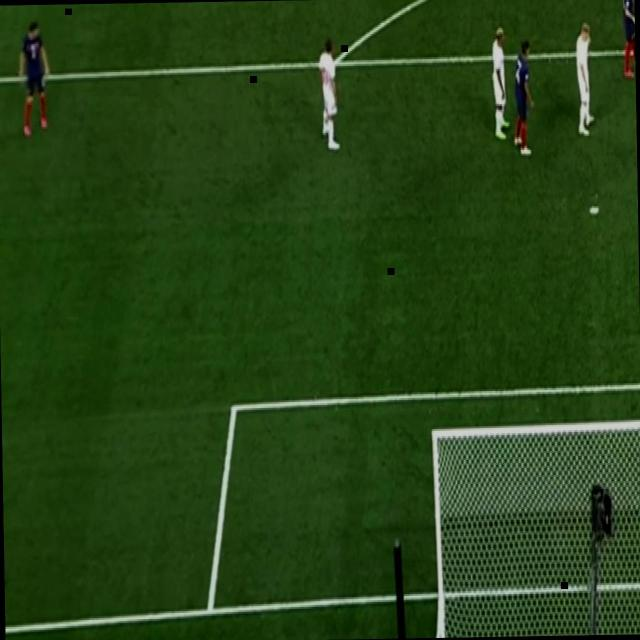player-white: (16, 13, 53, 145), (510, 32, 538, 162), (571, 17, 599, 143), (316, 31, 344, 156), (488, 23, 514, 147), (616, 0, 636, 85), (631, 0, 635, 42)
